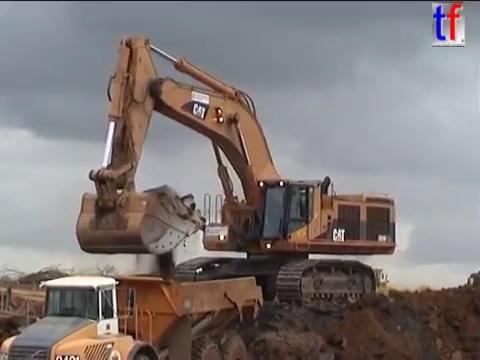excavator: (73, 33, 400, 315)
motor grader: (348, 265, 394, 303)
truck: (1, 272, 265, 360), (465, 268, 480, 294)
